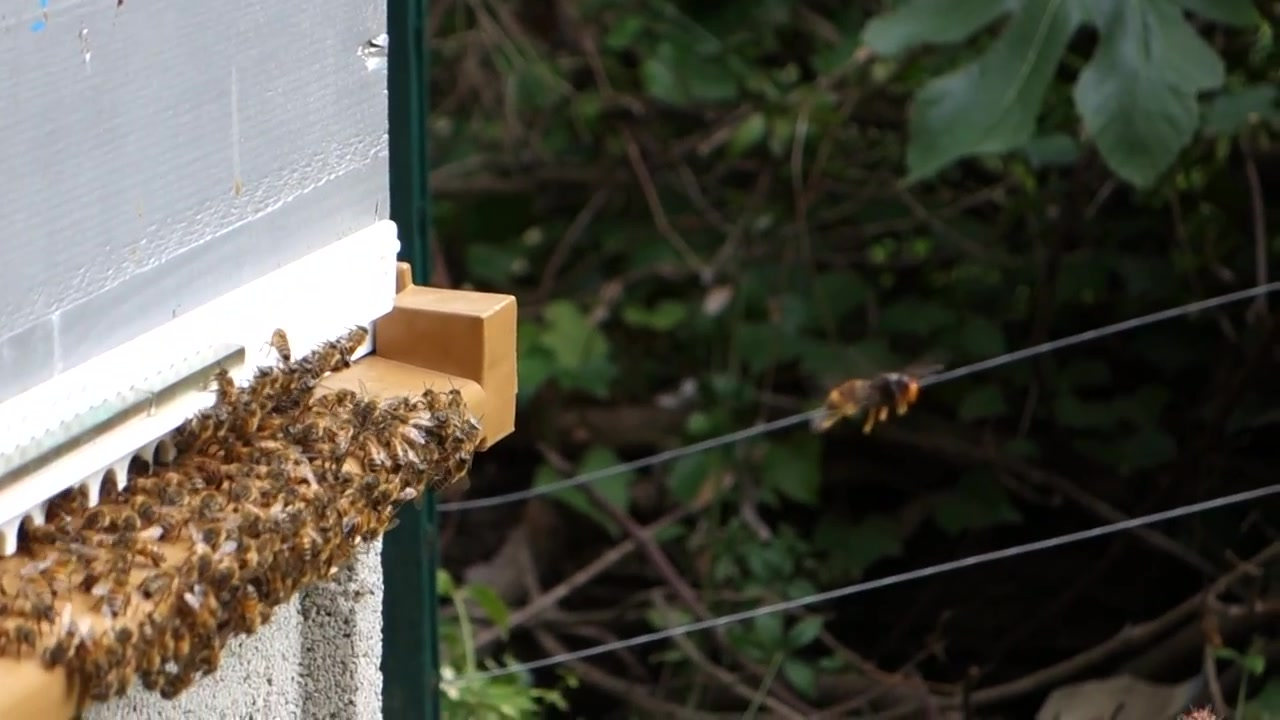bee: (170, 427, 332, 521), (9, 520, 85, 681), (88, 623, 226, 698), (248, 368, 424, 425), (308, 481, 404, 551), (248, 529, 316, 596), (404, 424, 472, 488), (94, 555, 143, 621), (177, 527, 229, 585), (123, 482, 168, 534), (350, 428, 392, 477), (324, 324, 370, 362), (231, 591, 272, 633), (261, 326, 302, 361), (208, 368, 241, 410), (441, 381, 473, 424)
hornet: (794, 363, 943, 429)
